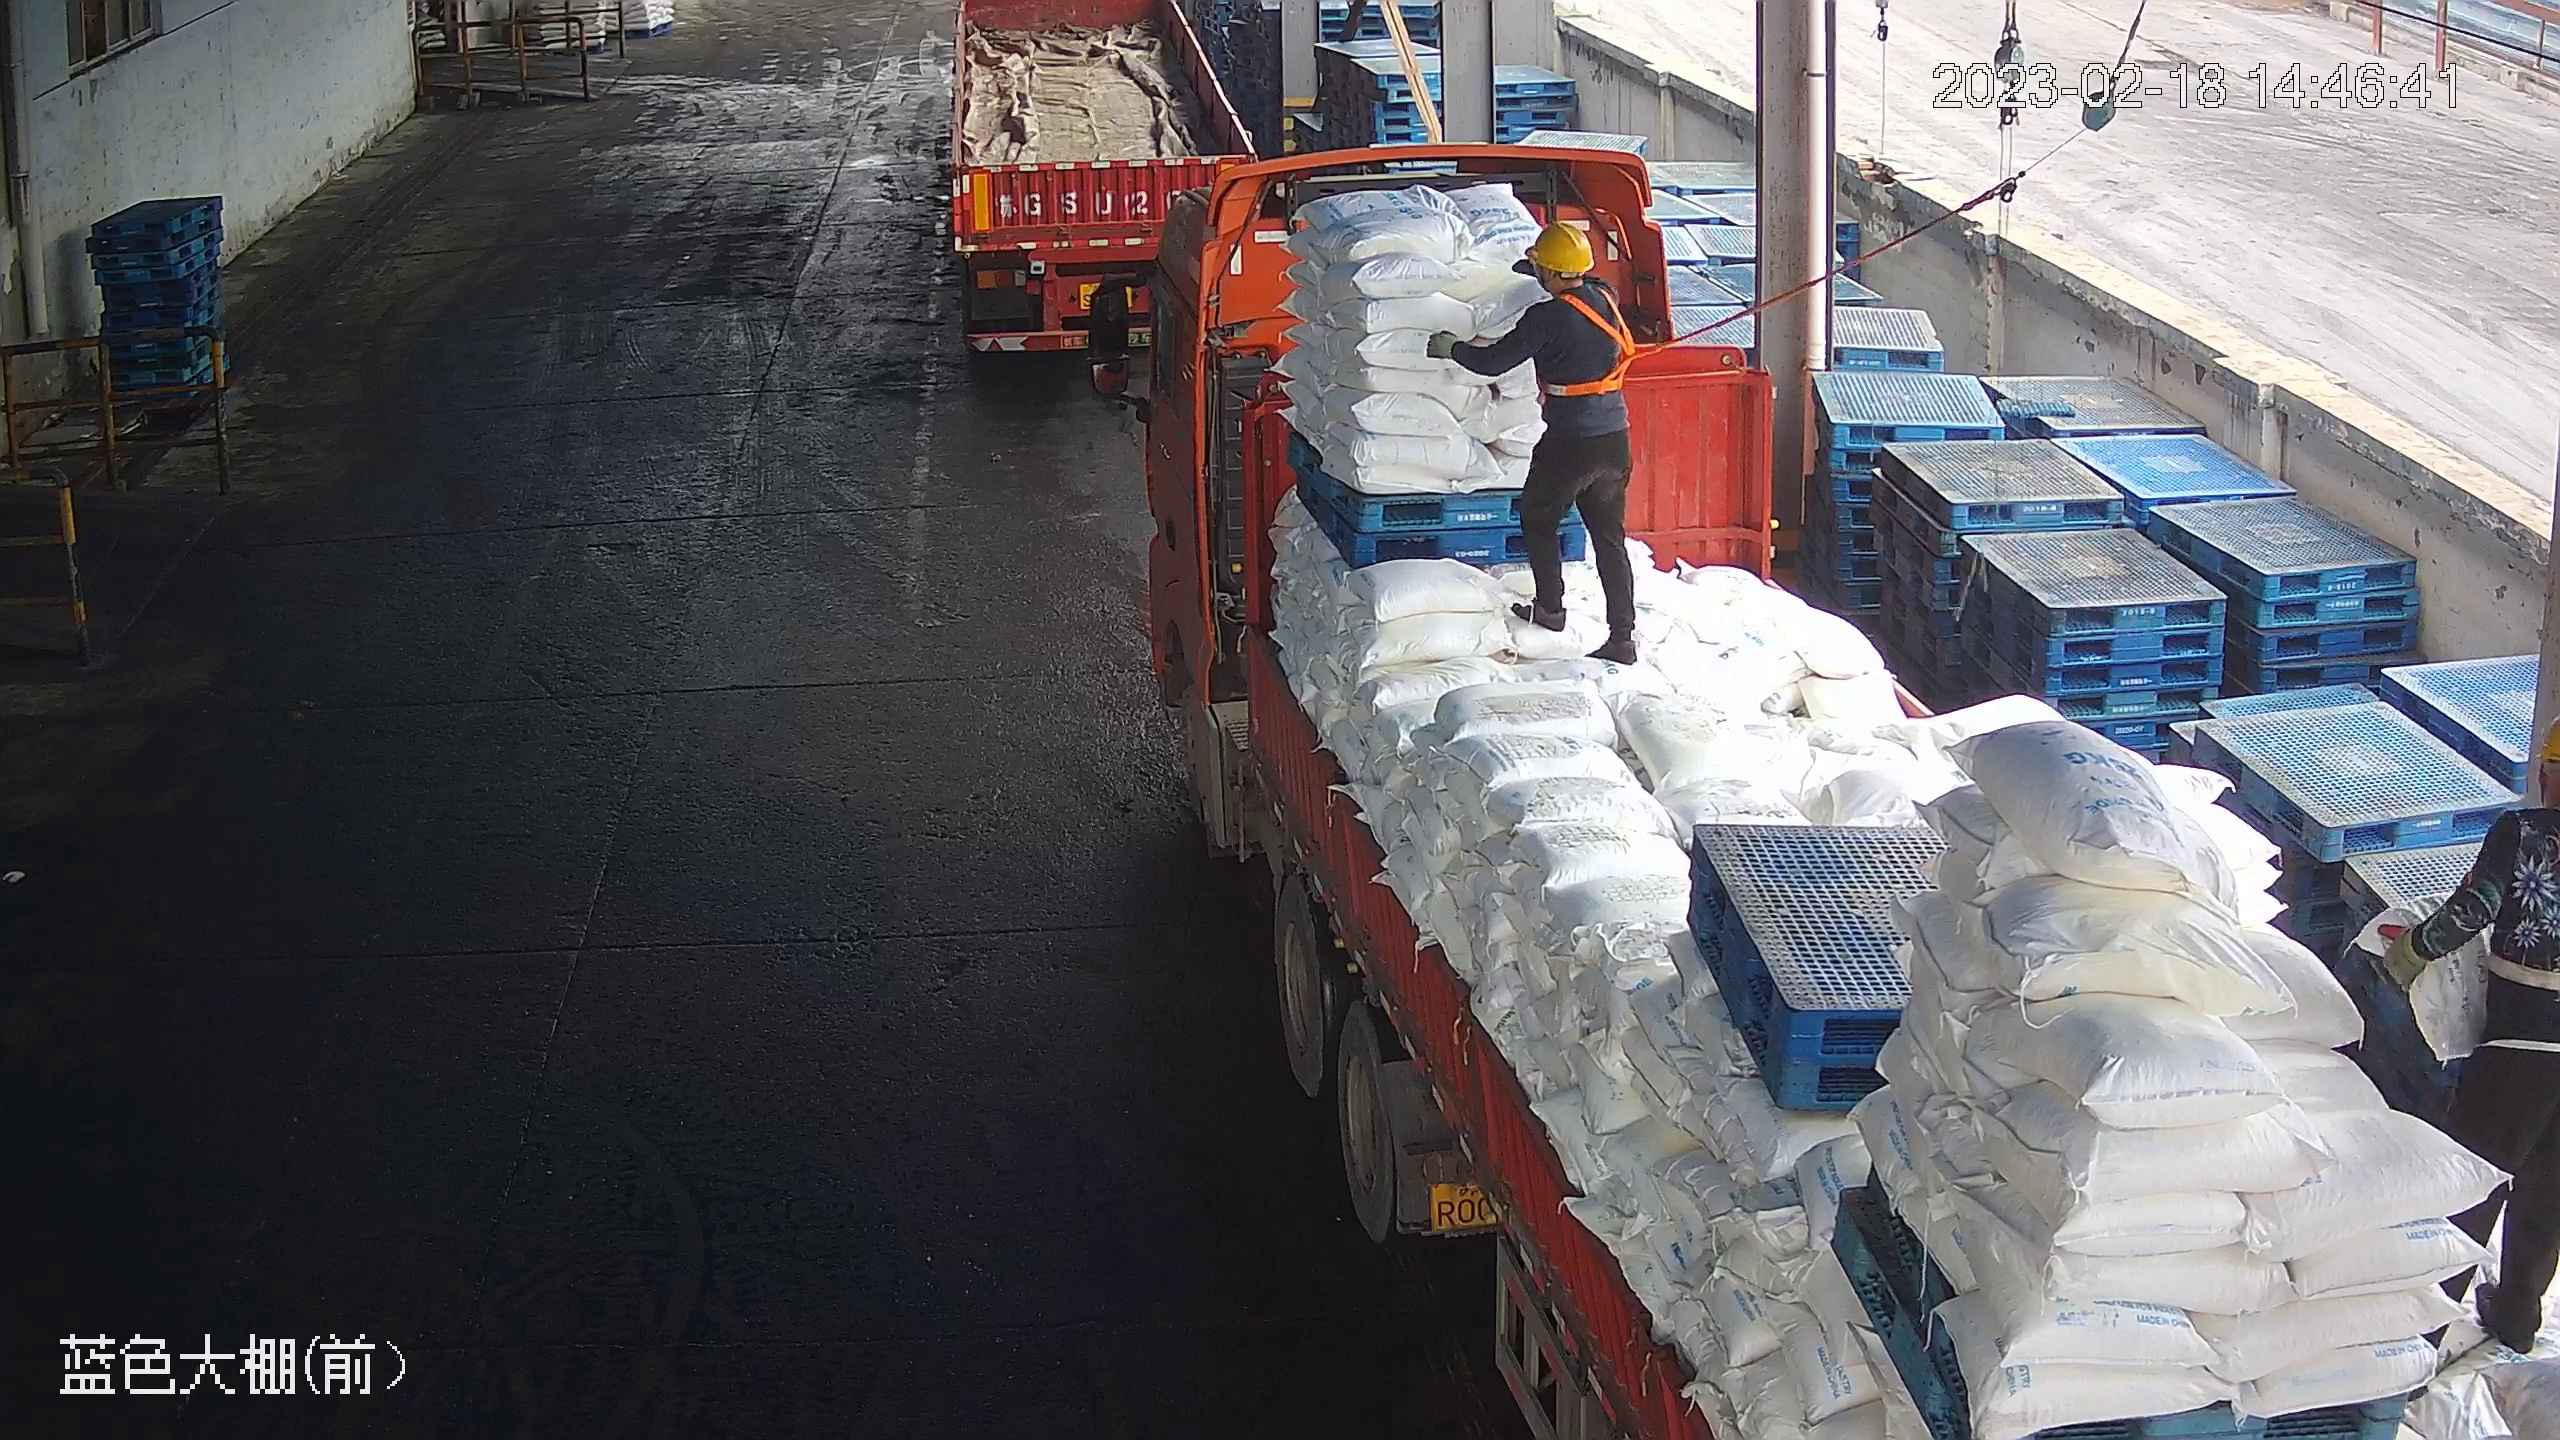belt: (1539, 284, 1649, 398)
head: (1508, 218, 1627, 344)
helmet: (1520, 218, 1595, 275)
people: (2329, 713, 2560, 1385), (1427, 218, 1643, 661)
truck: (1089, 139, 2551, 1440), (943, 3, 1262, 361)
